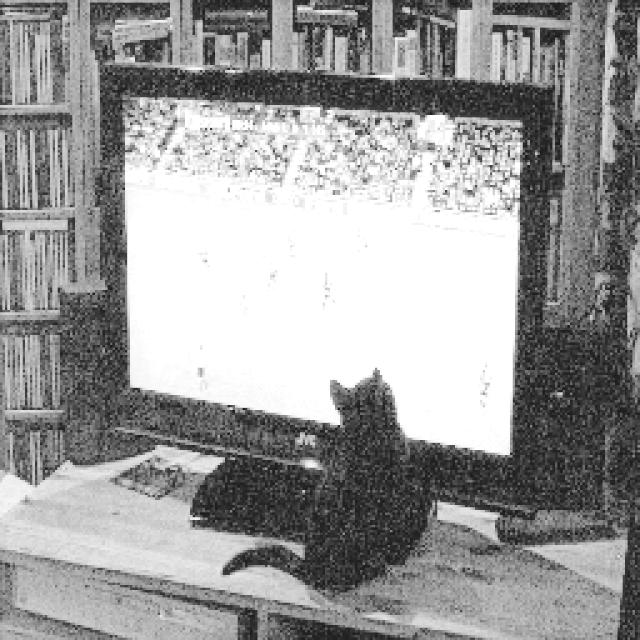cat: (219, 365, 432, 601)
